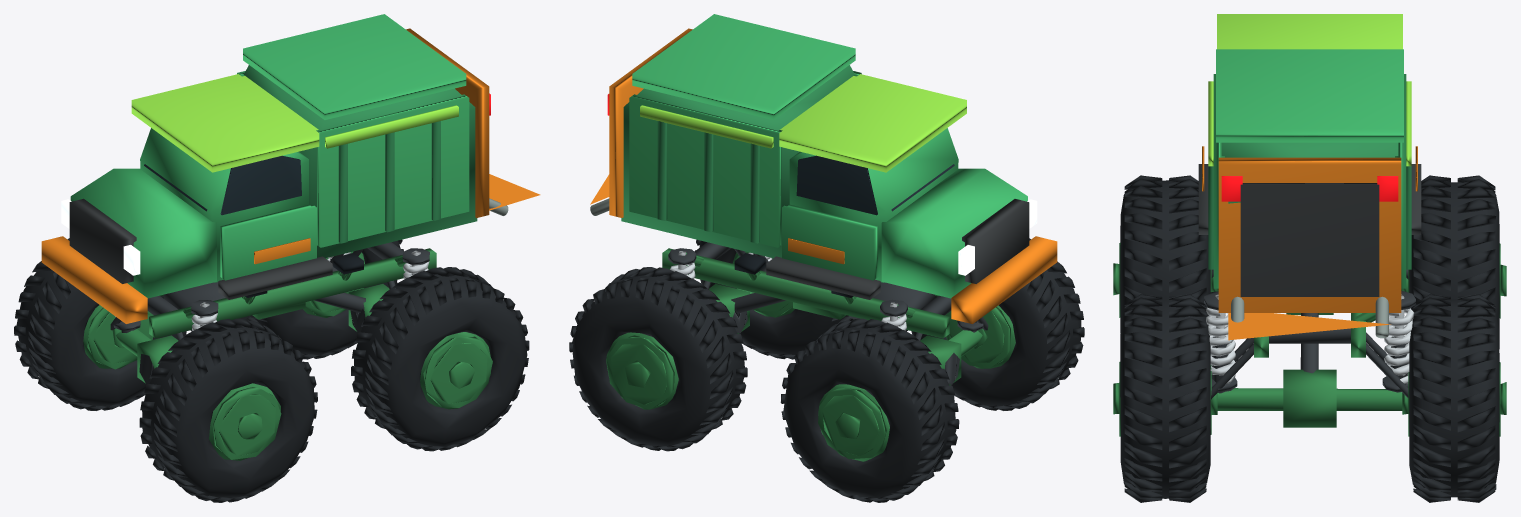
Rendered from TrashTitan_LOD2.fbx.
3 renders of one model, left to right at view 1: azimuth 30°, elevation 25°; view 2: azimuth 150°, elevation 25°; view 3: azimuth 270°, elevation 25°, orthographic. The views are drawn at different scales.
Parts seen in each view (by area): view 1: TrashTitan_LOD2_sprung_body_Geometry, TrashTitan_LOD2_RL_Spin_Geometry, TrashTitan_LOD2_FL_Spin_Geometry, TrashTitan_LOD2_FR_Spin_Geometry, TrashTitan_LOD2_RR_Spin_Geometry, TrashTitan_LOD2_FRONT_axle_Geometry, TrashTitan_LOD2_LoaderTray_Geometry, TrashTitan_LOD2_Root_Geometry, TrashTitan_LOD2_REAR_axle_Geometry, TrashTitan_LOD2_REAR_shock_-1_Geometry, TrashTitan_LOD2_FRONT_shock_-1_Geometry; view 2: TrashTitan_LOD2_sprung_body_Geometry, TrashTitan_LOD2_RR_Spin_Geometry, TrashTitan_LOD2_FR_Spin_Geometry, TrashTitan_LOD2_FL_Spin_Geometry, TrashTitan_LOD2_RL_Spin_Geometry, TrashTitan_LOD2_FRONT_axle_Geometry, TrashTitan_LOD2_Root_Geometry, TrashTitan_LOD2_REAR_axle_Geometry, TrashTitan_LOD2_REAR_shock_1_Geometry, TrashTitan_LOD2_FRONT_shock_1_Geometry; view 3: TrashTitan_LOD2_sprung_body_Geometry, TrashTitan_LOD2_RR_Spin_Geometry, TrashTitan_LOD2_RL_Spin_Geometry, TrashTitan_LOD2_FR_Spin_Geometry, TrashTitan_LOD2_FL_Spin_Geometry, TrashTitan_LOD2_REAR_axle_Geometry, TrashTitan_LOD2_LoaderTray_Geometry, TrashTitan_LOD2_Root_Geometry, TrashTitan_LOD2_REAR_shock_1_Geometry, TrashTitan_LOD2_REAR_shock_-1_Geometry.
Boxes of the visible parts, <box> form: TrashTitan_LOD2_sprung_body_Geometry: <box>41,14,508,338</box>; TrashTitan_LOD2_RL_Spin_Geometry: <box>351,267,529,451</box>; TrashTitan_LOD2_FL_Spin_Geometry: <box>139,318,317,502</box>; TrashTitan_LOD2_FR_Spin_Geometry: <box>14,238,186,410</box>; TrashTitan_LOD2_RR_Spin_Geometry: <box>245,239,403,359</box>; TrashTitan_LOD2_FRONT_axle_Geometry: <box>116,329,178,384</box>; TrashTitan_LOD2_LoaderTray_Geometry: <box>489,174,540,210</box>; TrashTitan_LOD2_Root_Geometry: <box>110,249,395,340</box>; TrashTitan_LOD2_REAR_axle_Geometry: <box>345,284,389,332</box>; TrashTitan_LOD2_REAR_shock_-1_Geometry: <box>402,248,429,279</box>; TrashTitan_LOD2_FRONT_shock_-1_Geometry: <box>191,300,218,330</box>; TrashTitan_LOD2_sprung_body_Geometry: <box>590,14,1057,338</box>; TrashTitan_LOD2_RR_Spin_Geometry: <box>569,267,747,451</box>; TrashTitan_LOD2_FR_Spin_Geometry: <box>780,318,959,502</box>; TrashTitan_LOD2_FL_Spin_Geometry: <box>911,238,1084,410</box>; TrashTitan_LOD2_RL_Spin_Geometry: <box>695,239,853,359</box>; TrashTitan_LOD2_FRONT_axle_Geometry: <box>920,330,982,385</box>; TrashTitan_LOD2_Root_Geometry: <box>703,249,988,340</box>; TrashTitan_LOD2_REAR_axle_Geometry: <box>709,284,754,333</box>; TrashTitan_LOD2_REAR_shock_1_Geometry: <box>668,248,696,278</box>; TrashTitan_LOD2_FRONT_shock_1_Geometry: <box>880,299,907,330</box>; TrashTitan_LOD2_sprung_body_Geometry: <box>1198,14,1421,357</box>; TrashTitan_LOD2_RR_Spin_Geometry: <box>1402,294,1506,502</box>; TrashTitan_LOD2_RL_Spin_Geometry: <box>1113,294,1217,502</box>; TrashTitan_LOD2_FR_Spin_Geometry: <box>1402,175,1506,348</box>; TrashTitan_LOD2_FL_Spin_Geometry: <box>1113,175,1217,333</box>; TrashTitan_LOD2_REAR_axle_Geometry: <box>1217,369,1402,427</box>; TrashTitan_LOD2_LoaderTray_Geometry: <box>1228,313,1390,340</box>; TrashTitan_LOD2_Root_Geometry: <box>1211,269,1408,399</box>; TrashTitan_LOD2_REAR_shock_1_Geometry: <box>1382,291,1415,392</box>; TrashTitan_LOD2_REAR_shock_-1_Geometry: <box>1204,291,1237,392</box>.
Bounding box in the file's own units: 590 × 454 × 414.
